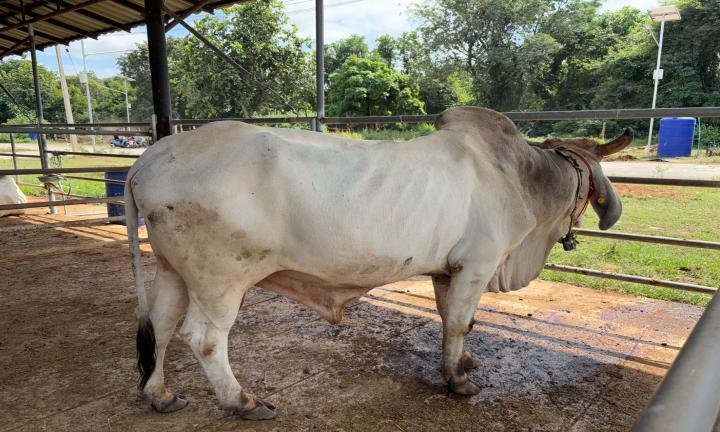Brahman: (124, 107, 633, 420)
